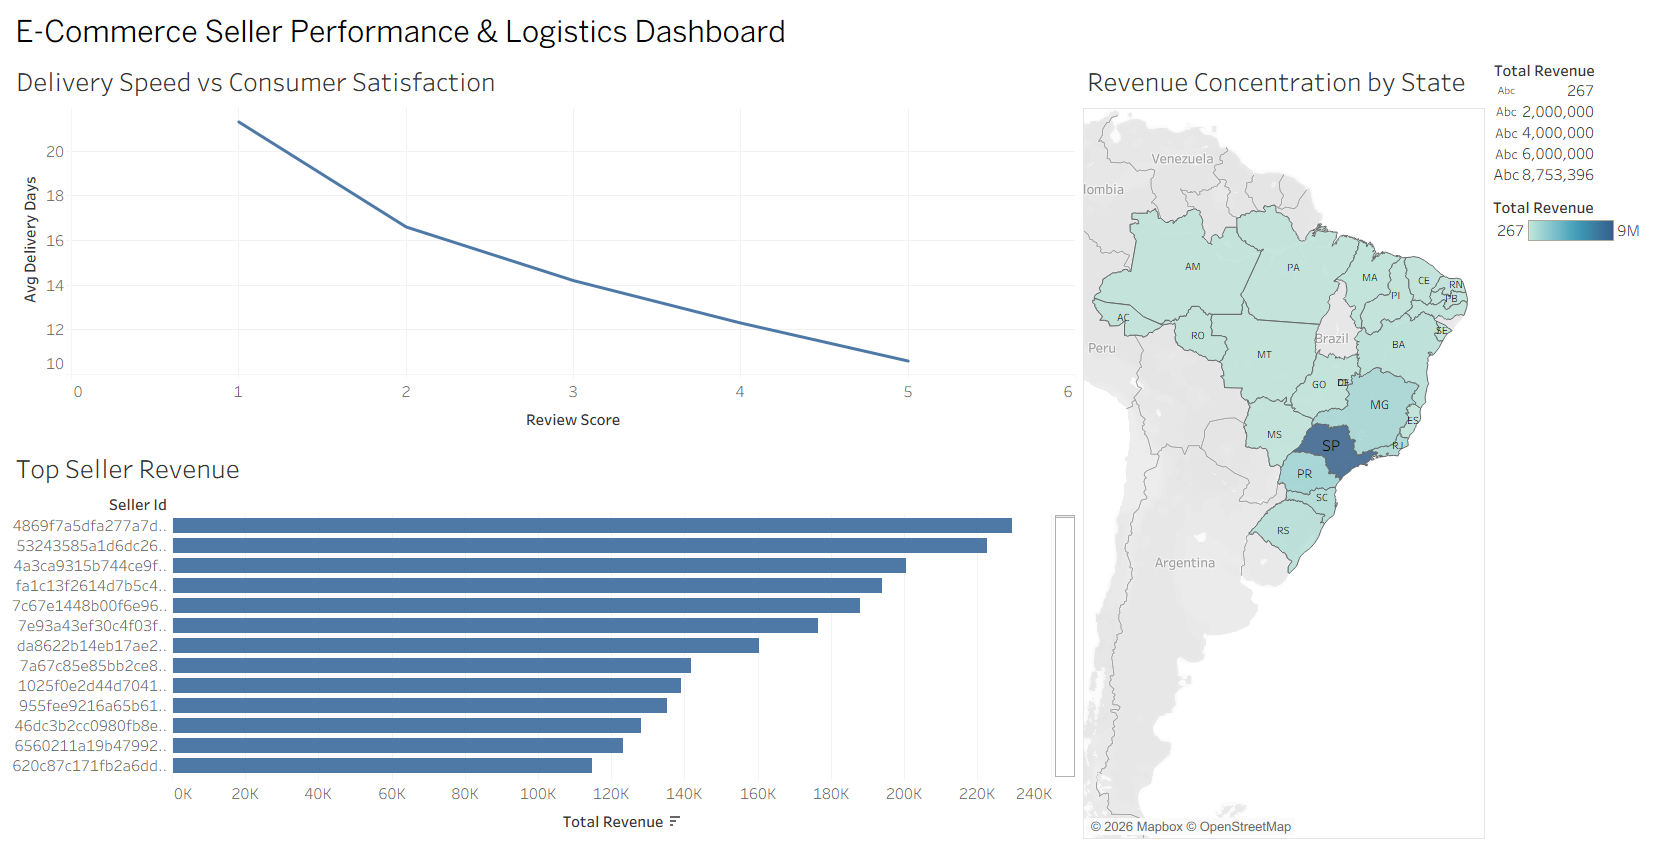

This screenshot's page, from the dashboard's own definition file:
{"tool":"tableau","page":{"name":"Dashboard 1","canvas":[1000,1000],"units":"permille","ordinal":0},"visuals":[{"type":"title","box":[4.8,9.4,990.3,54.1]},{"type":"worksheet","title":"Delivery Speed vs Consumer Satisfaction","mark":"Automatic","rows":["avg_delivery_days"],"cols":["review_score"],"box":[4.8,63.5,646.4,454.8]},{"type":"worksheet","title":"Revenue Concentration by State","mark":"Multipolygon","box":[651.2,63.5,247.4,927.1]},{"type":"legend","title":"Revenue Concentration by State","param":"[federated.1m3t5780i2g4fi1h1idmx0ewrak4].[sum:total_revenue:qk]","box":[898.6,63.5,96.6,158.6]},{"type":"legend","title":"Revenue Concentration by State","param":"[federated.1m3t5780i2g4fi1h1idmx0ewrak4].[sum:total_revenue:qk]","box":[898.6,222.1,96.6,85.8]},{"type":"worksheet","title":"Top Seller Revenue","mark":"Automatic","rows":["seller_id"],"cols":["total_revenue"],"box":[4.8,518.2,646.4,472.4]}]}

Visuals, with their boxes on the dashboard's canvas, which has no fixed pixel size, in thousandths of its width and height (x1, y1, x2, y2). These are canvas units, not pixel positions in the 1657x851 screenshot, which may show the page scaled, cropped or inside an application window:
title: left=5, top=9, right=995, bottom=64
"Delivery Speed vs Consumer Satisfaction" worksheet: left=5, top=64, right=651, bottom=518
"Revenue Concentration by State" worksheet (Multipolygon marks): left=651, top=64, right=899, bottom=991
"Revenue Concentration by State" legend: left=899, top=64, right=995, bottom=222
"Revenue Concentration by State" legend: left=899, top=222, right=995, bottom=308
"Top Seller Revenue" worksheet: left=5, top=518, right=651, bottom=991
